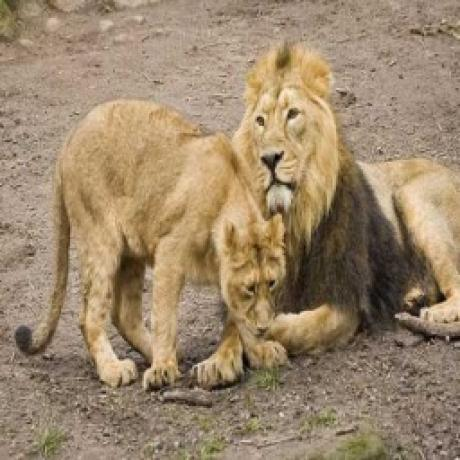Lion: (14, 95, 290, 389), (230, 44, 460, 360)
